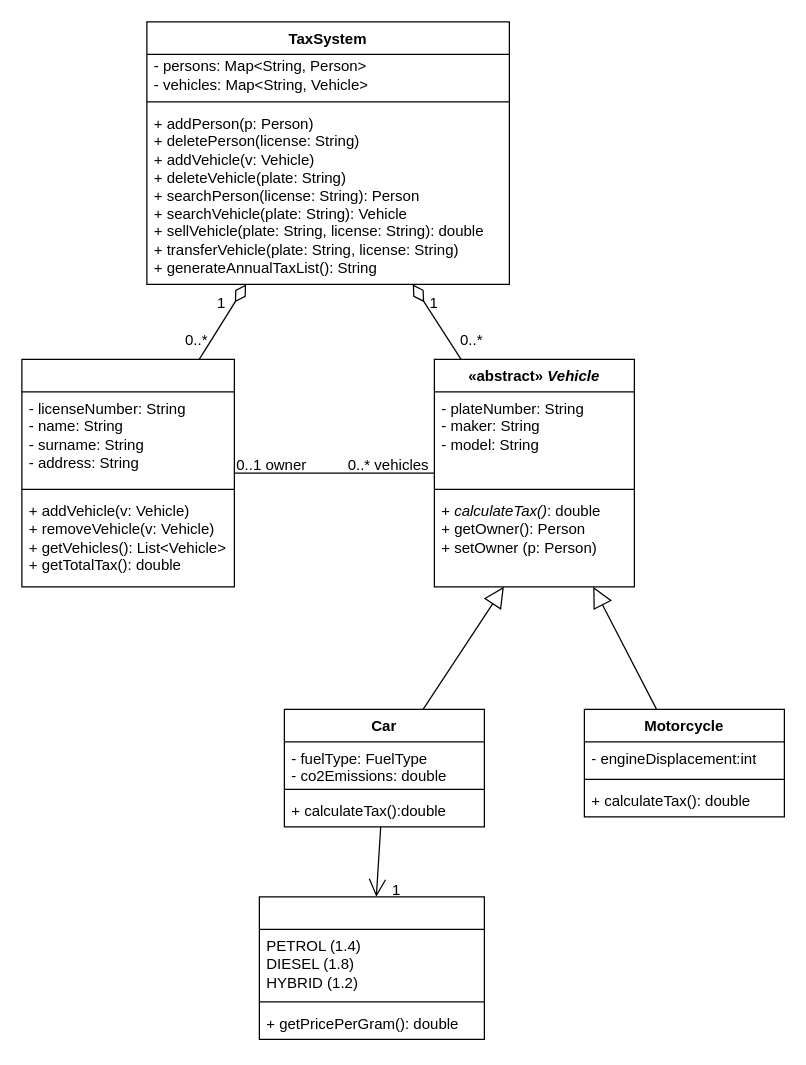
The diagram is 806 pixels wide and 1065 high, and some of its shapes have lost their labels. Each missing label, with the box of its shape:
Person: (21, 358, 234, 587)
«enumeration» FuelType: (258, 896, 484, 1039)
